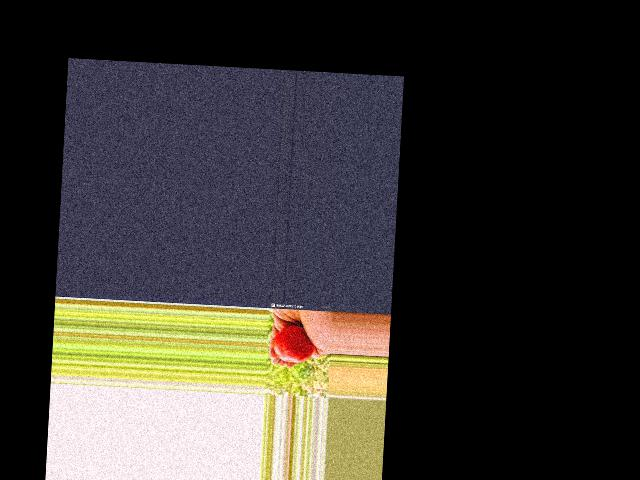tomato: (273, 324, 315, 363)
